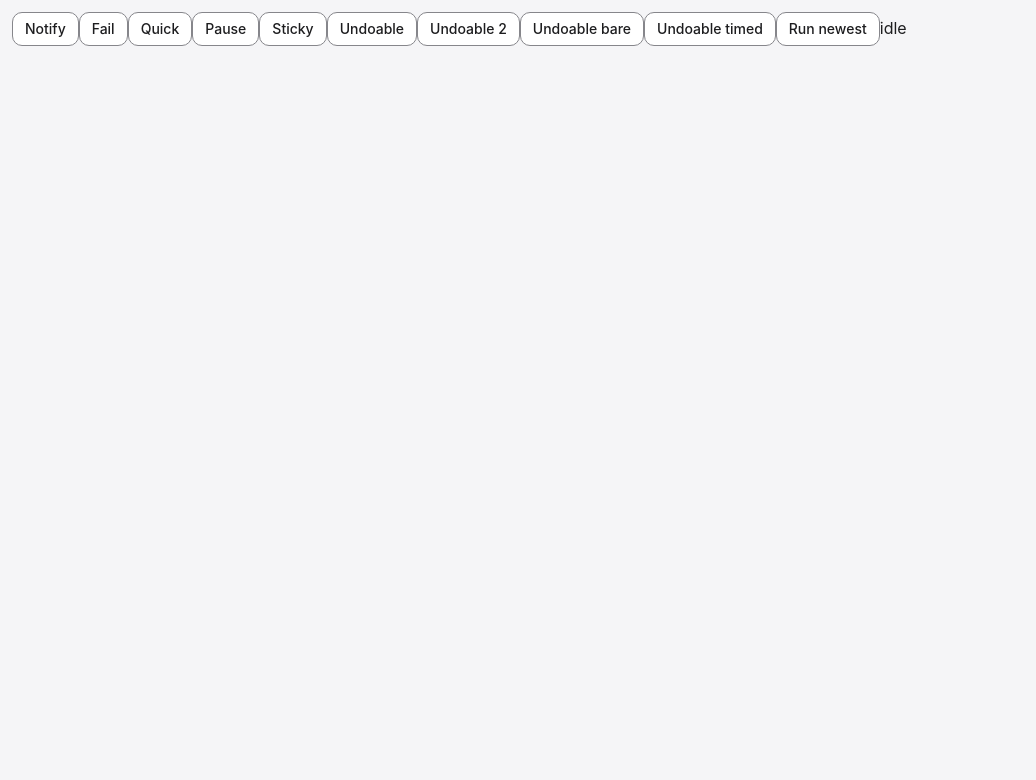
Test: Toast › routes a danger toast into the assertive region
This screenshot has width=1036, height=780.
Click the button "Fail" at (103,29), box x1=79 y1=12 x2=128 y2=46
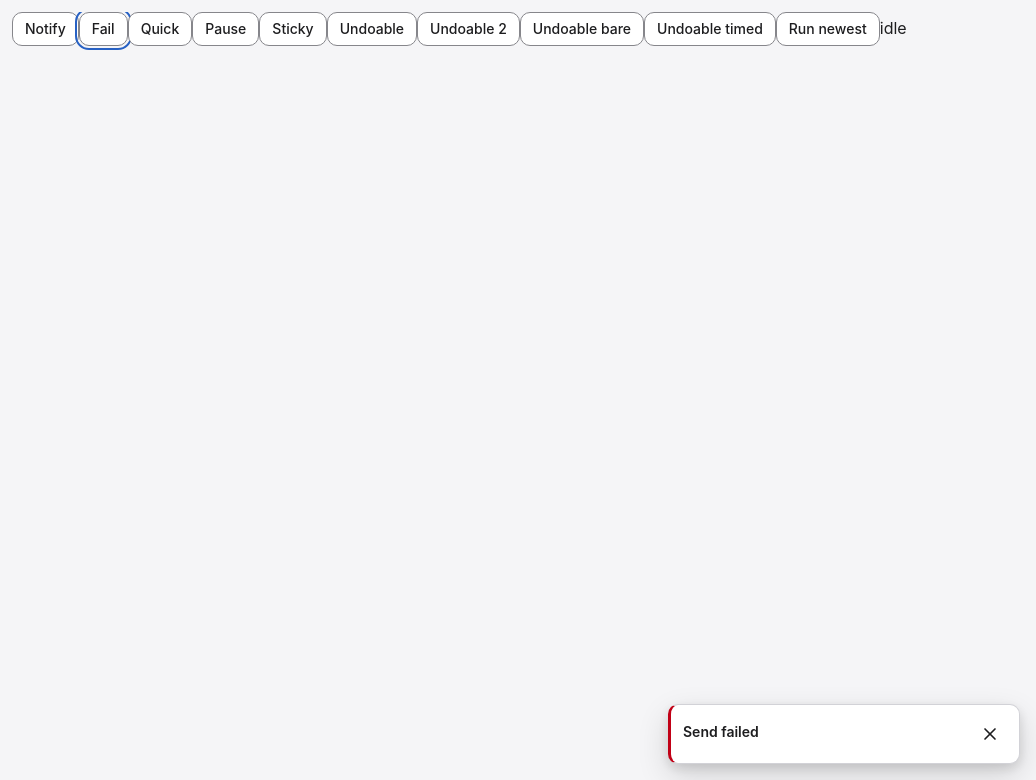
Result: the text "Send failed" is shown at x1=683 y1=723 x2=759 y2=740
